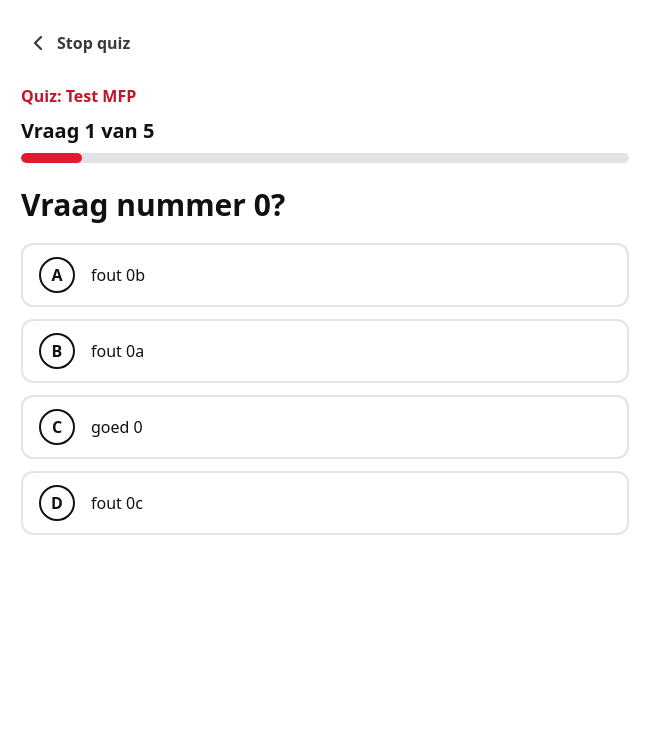
Quiz-pagina › toont het juiste antwoord bij een fout
Click the button "B fout 0a" at (57, 351), box 21,319 -> 629,383
(page scrolled)
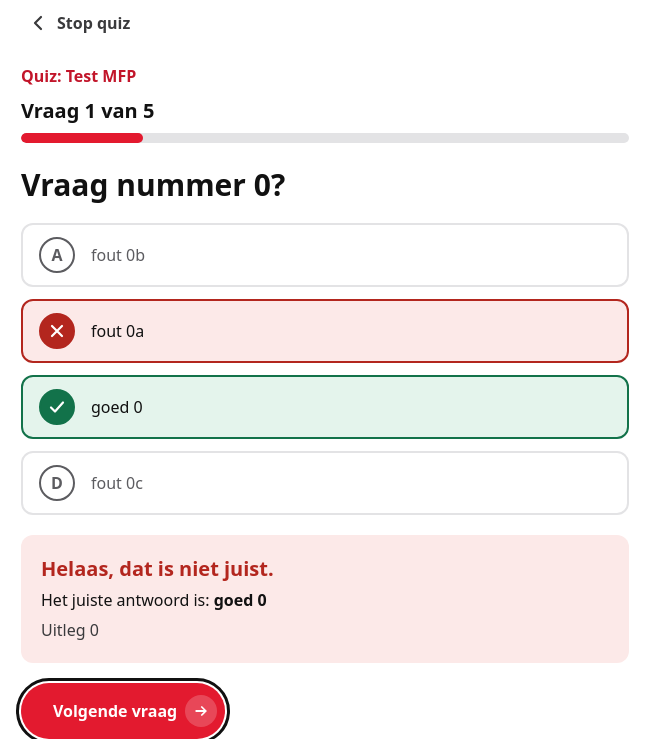
Now the text "Helaas, dat is niet juist." is shown, box 41,555 -> 274,582
Now the text "Uitleg 0" is shown, box 41,619 -> 99,641
